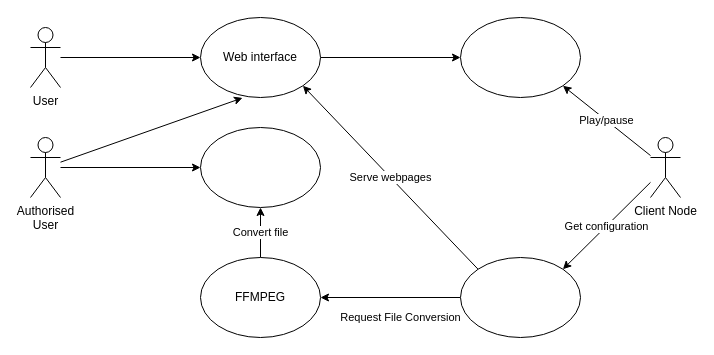
Image size: 714x355. Some labels were removed from this diagram. The centre of each missing label's shape, as x and y in pixels:
"Change state of audio player" belongs at pixel 520 57.
"JASLiN Server" belongs at pixel 520 297.
"Write to Filesystem" belongs at pixel 260 167.
